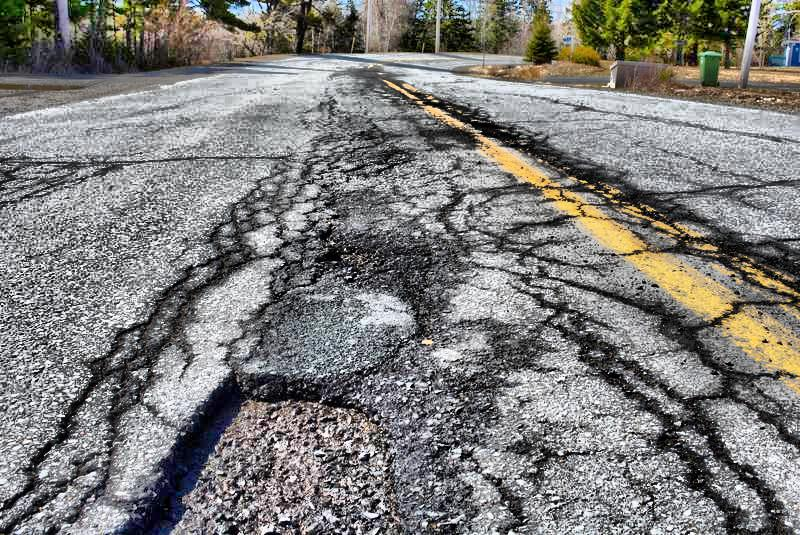pothole: (127, 368, 408, 535)
